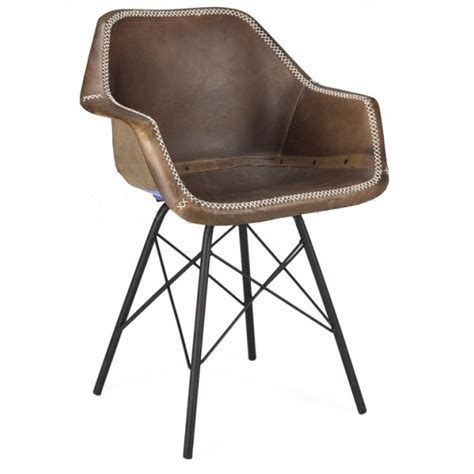cuero: (80, 7, 385, 208)
